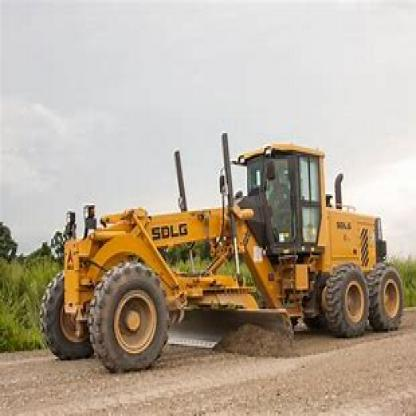bull_dozer/loader/grader: (35, 128, 412, 372)
